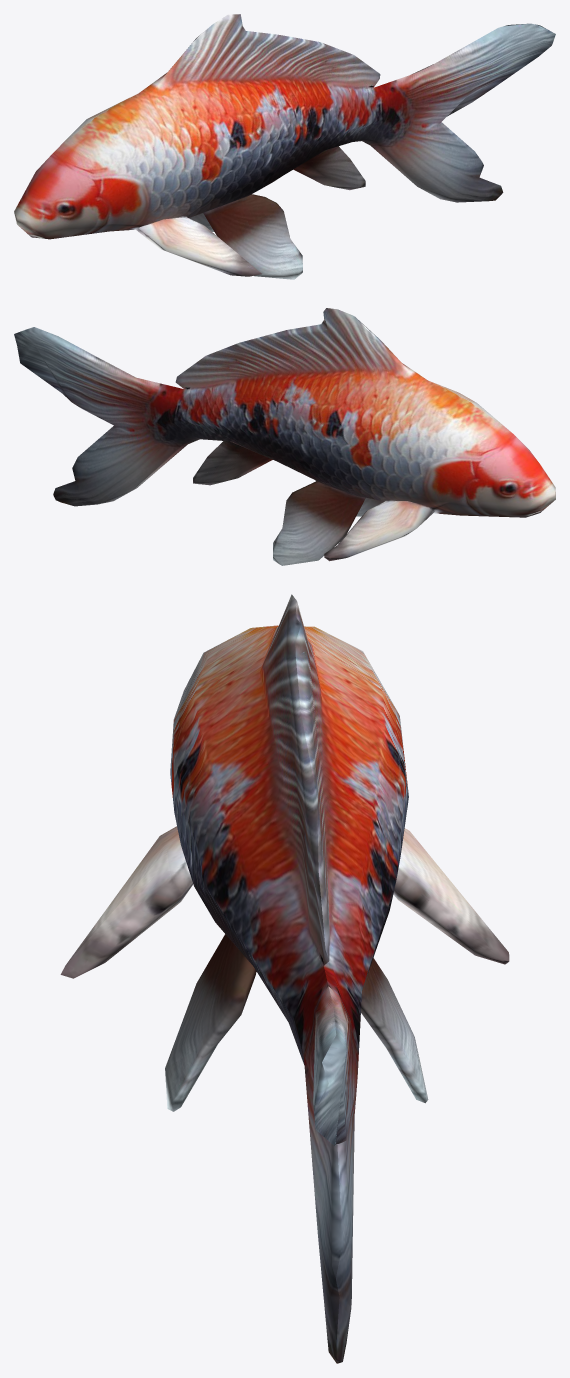
File: fish.glb
3 renders of one model, top to bottom at view 1: azimuth 30°, elevation 25°; view 2: azimuth 150°, elevation 25°; view 3: azimuth 270°, elevation 25°, orthographic. The views are drawn at different scales.
Visible parts, largest first — view 1: fish; view 2: fish; view 3: fish.
Part boxes in pixels (<box>): fish: <box>14,14,555,279</box>; fish: <box>14,308,555,565</box>; fish: <box>60,594,509,1363</box>.
Bounding box in the file's own units: 6.39 × 2.89 × 2.34.
Materials: 1 (1 with a texture image).
